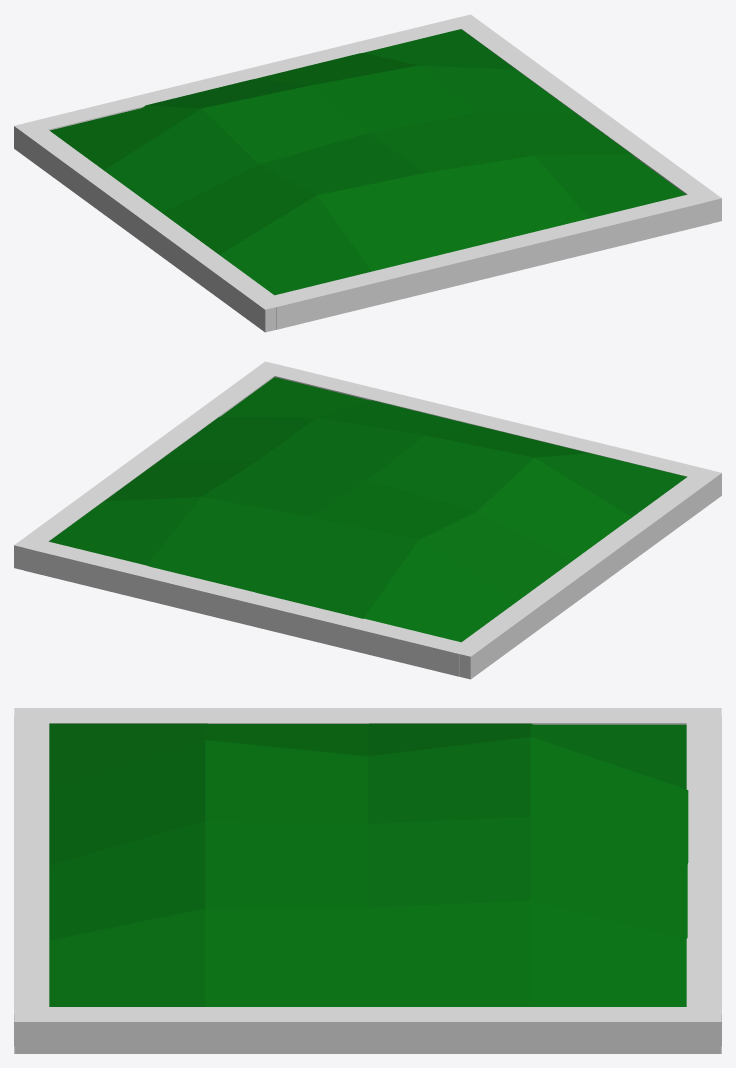
File: Excavation Box.FBX
The picture shows the model from 3 angles, top to bottom: view 1: azimuth 30°, elevation 25°; view 2: azimuth 150°, elevation 25°; view 3: azimuth 270°, elevation 25°; orthographic projection. The views are drawn at different scales.
Visible parts, largest first — view 1: Top Soil, Box005, Box002, Box003, Box004; view 2: Top Soil, Box004, Box002, Box005, Box003; view 3: Top Soil, Box003, Box002, Box005, Box004.
Boxes of the visible parts, x1,y1,x2,y2 form: Top Soil: [50, 29, 686, 295]; Box005: [264, 193, 711, 329]; Box002: [14, 121, 277, 332]; Box003: [449, 14, 721, 223]; Box004: [25, 17, 471, 132]; Top Soil: [49, 377, 686, 642]; Box004: [24, 539, 471, 676]; Box002: [452, 467, 721, 679]; Box005: [264, 364, 710, 479]; Box003: [14, 361, 285, 570]; Top Soil: [49, 723, 688, 1006]; Box003: [14, 1007, 721, 1053]; Box002: [14, 708, 721, 724]; Box005: [14, 715, 49, 1045]; Box004: [686, 715, 721, 1045].
Size of the model in its own units: 52.5 by 6.67 by 50.05.
